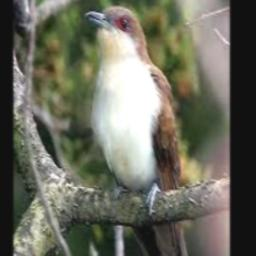Cuckoo: (84, 6, 191, 256)
